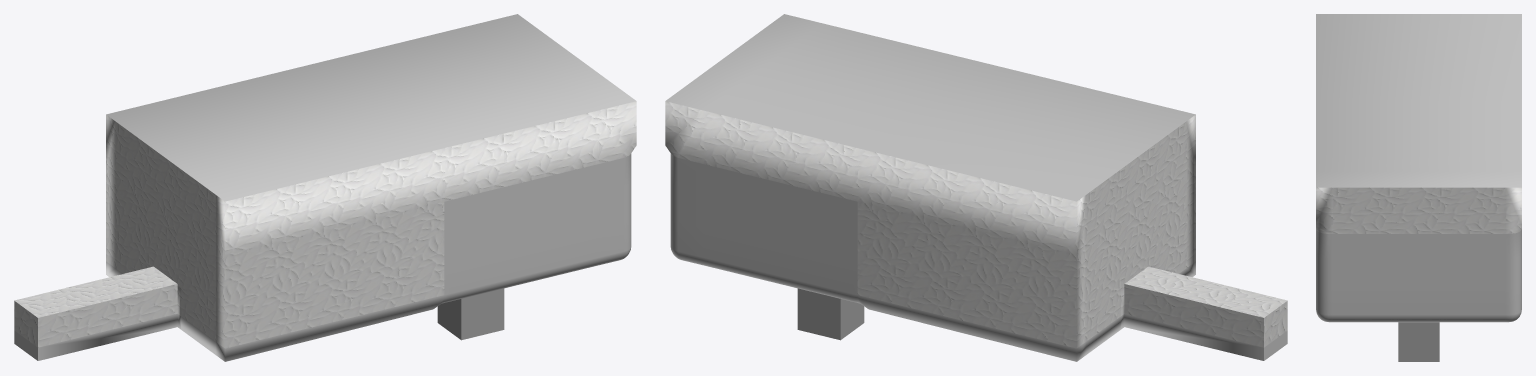
The model's file is Elevator.fbx.
The picture shows the model from 3 angles, left to right: view 1: azimuth 30°, elevation 25°; view 2: azimuth 150°, elevation 25°; view 3: azimuth 270°, elevation 25°; orthographic projection. The views are drawn at different scales.
Parts seen in each view (by area): view 1: GreenRoom, Elevator1; view 2: GreenRoom, Elevator1; view 3: GreenRoom, Elevator1.
Part boxes in pixels (bbox=[...]): GreenRoom: bbox=[14, 14, 636, 361]; Elevator1: bbox=[437, 288, 504, 340]; GreenRoom: bbox=[665, 14, 1287, 361]; Elevator1: bbox=[797, 288, 864, 340]; GreenRoom: bbox=[1316, 14, 1521, 322]; Elevator1: bbox=[1398, 322, 1439, 361].
Bounding box in the file's own units: 1190 × 501 × 445.
